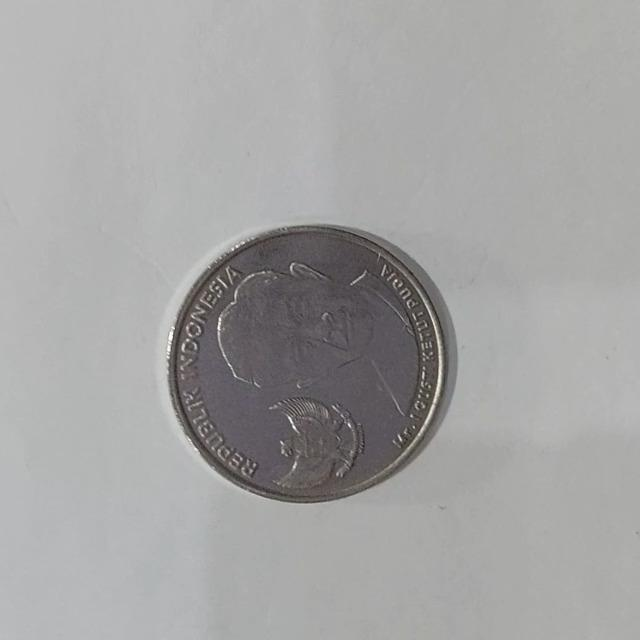Rp100: (164, 221, 453, 503)
